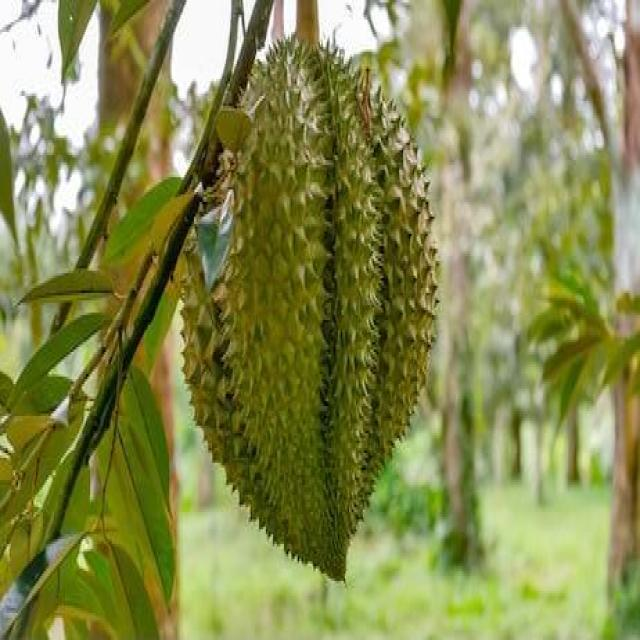immature: (177, 35, 437, 584)
